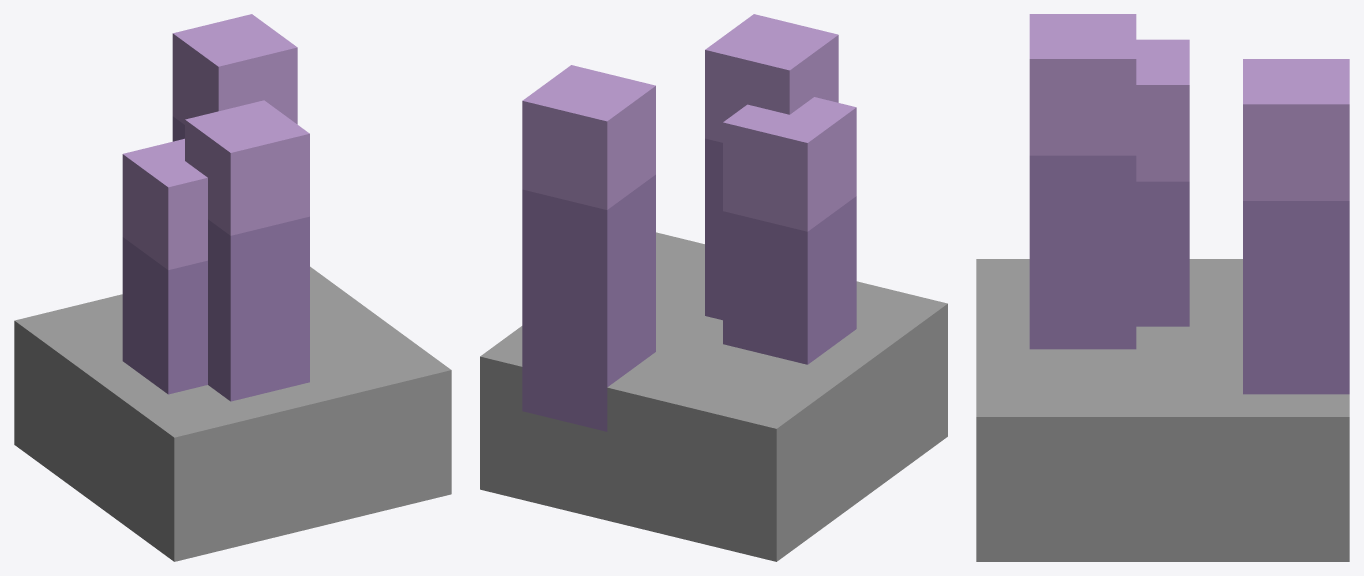
File: geoda_03.glb
3 views of the same model, side by side, from view 1: azimuth 30°, elevation 25°; view 2: azimuth 150°, elevation 25°; view 3: azimuth 270°, elevation 25° (orthographic). The views are drawn at different scales.
Visible parts, largest first — view 1: geoda_03; view 2: geoda_03; view 3: geoda_03.
Boxes of the visible parts, <box> form: geoda_03: <box>14,14,451,561</box>; geoda_03: <box>480,14,947,561</box>; geoda_03: <box>976,14,1349,561</box>.
Bounding box in the file's own units: 0.7 × 0.9 × 0.7.
